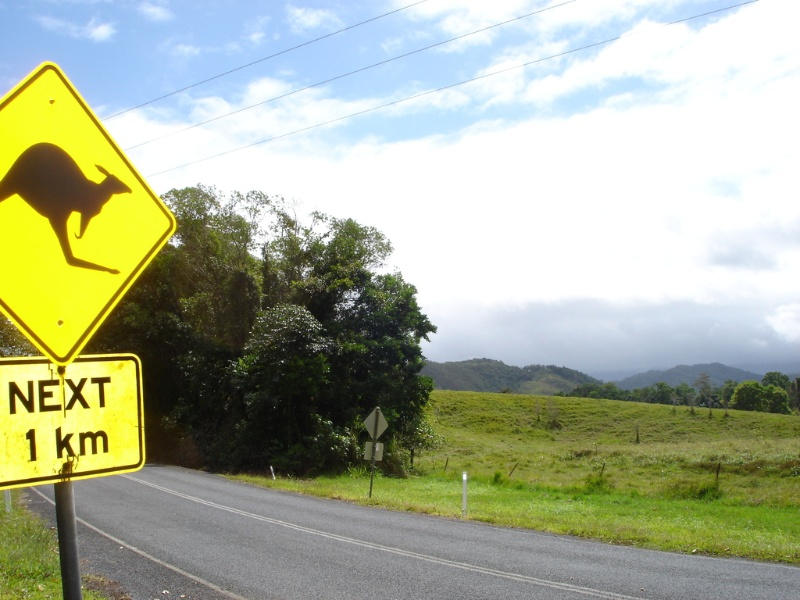animal_ahead: (1, 52, 182, 371)
